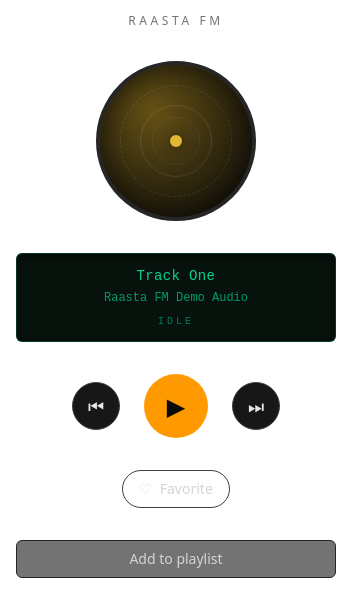
Test: PlayerPage › clicking Pause switches back to Play and reflects paused state
Click the button named "Play". click: (176, 406)
box: [144,374,208,438]
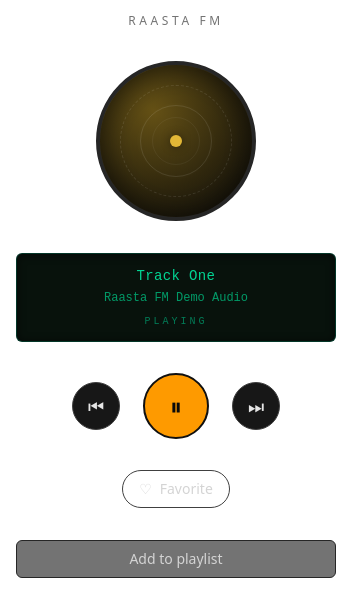
Click the button named "Pause". click: (176, 406)
box: [144,374,208,438]
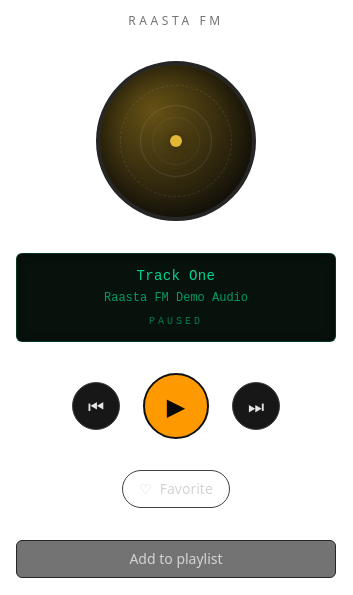
Result: the button named "Play" is shown at [144,374,208,438]
Result: the text "paused" is shown at [149,316,203,327]
